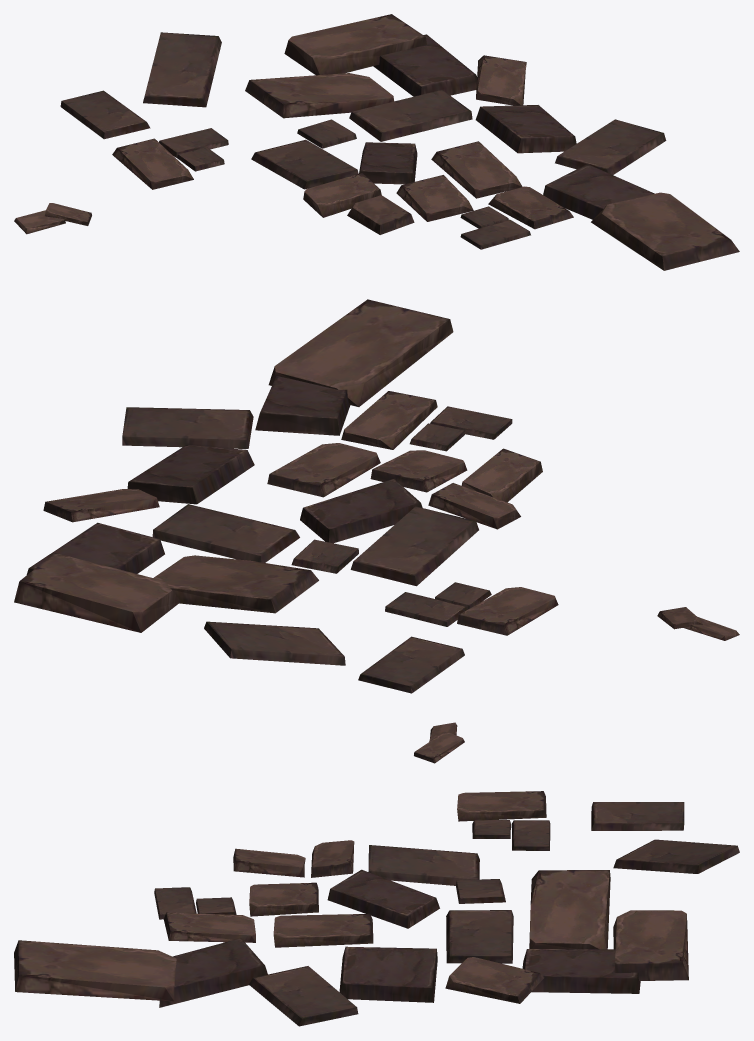
The model's file is sysd_dimian01a.FBX.
3 views of the same model, one above another, from view 1: azimuth 30°, elevation 25°; view 2: azimuth 150°, elevation 25°; view 3: azimuth 270°, elevation 25° (orthographic). The views are drawn at different scales.
Parts seen in each view (by area): view 1: sysd_dimian01a; view 2: sysd_dimian01a; view 3: sysd_dimian01a.
Part boxes in pixels (x1,y1,x2,y2): sysd_dimian01a: (14,14,739,270); sysd_dimian01a: (14,299,739,693); sysd_dimian01a: (14,722,739,1026).
Bounding box in the file's own units: 851 × 53.89 × 883.
1 material, 1 textured.
